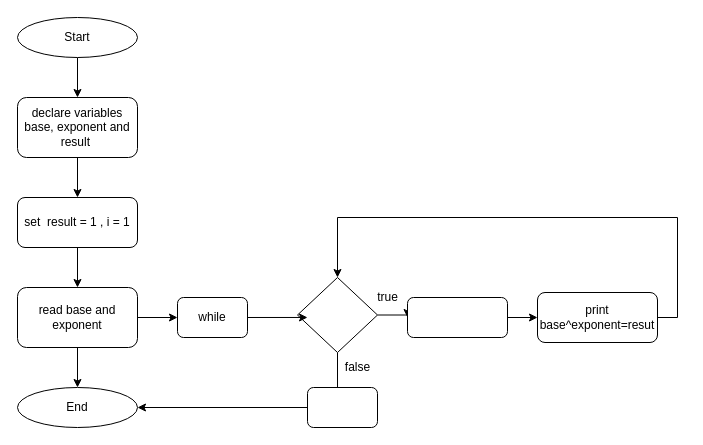
Image size: 703x445. Some labels were removed from this diagram. Each missing label, with the centre of its shape:
"end while" belongs at (342,407).
"i<=exponent" belongs at (337,314).
"result*=base i++" belongs at (457,317).
